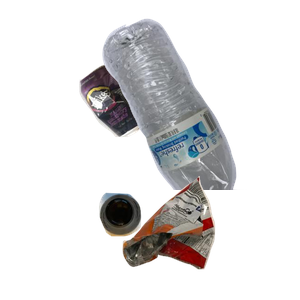glass: (96, 190, 230, 300)
metal: (77, 61, 222, 191)
plastic: (100, 16, 300, 196)
trash: (120, 174, 300, 300)
